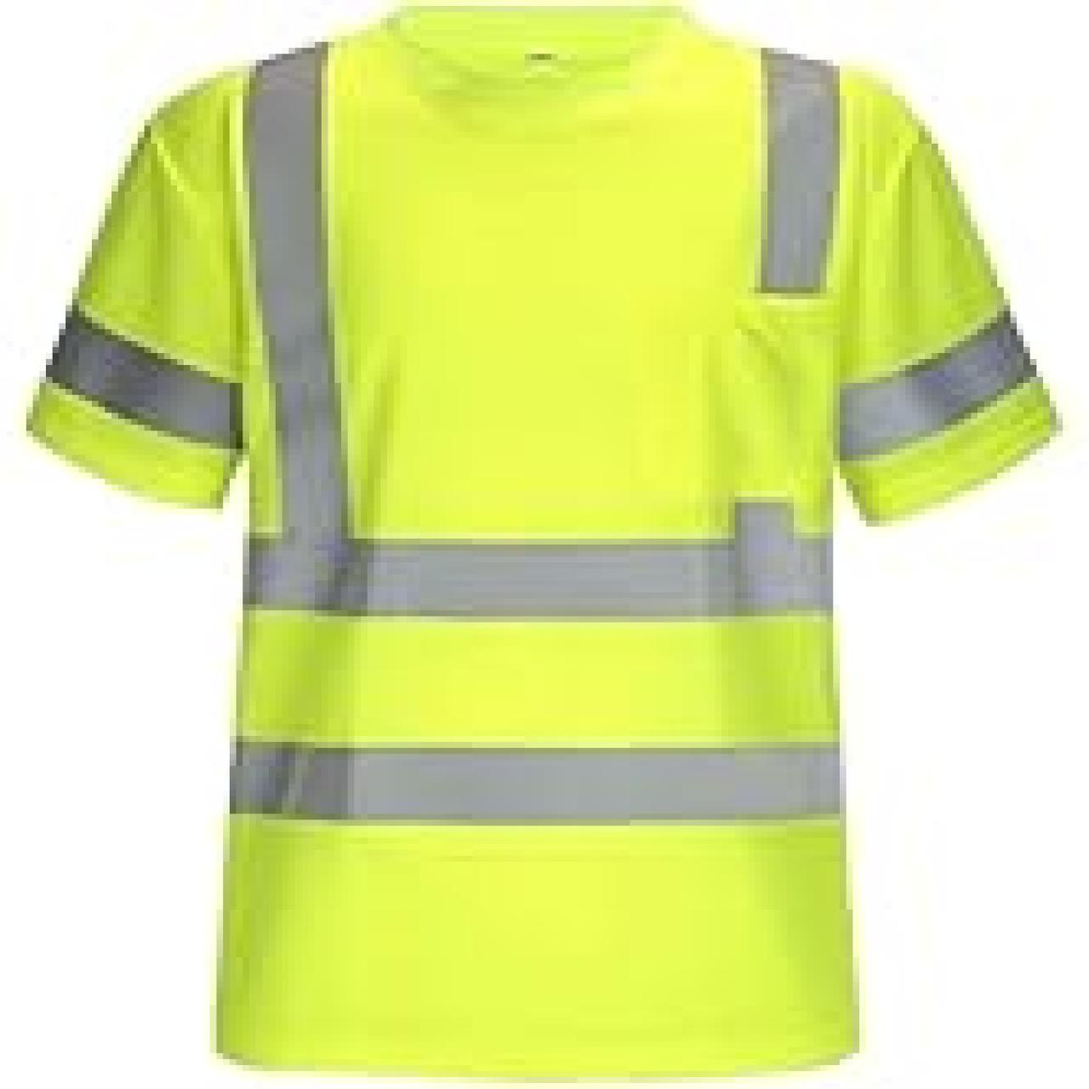NO_Safety_Vest: (35, 0, 1081, 1080)
